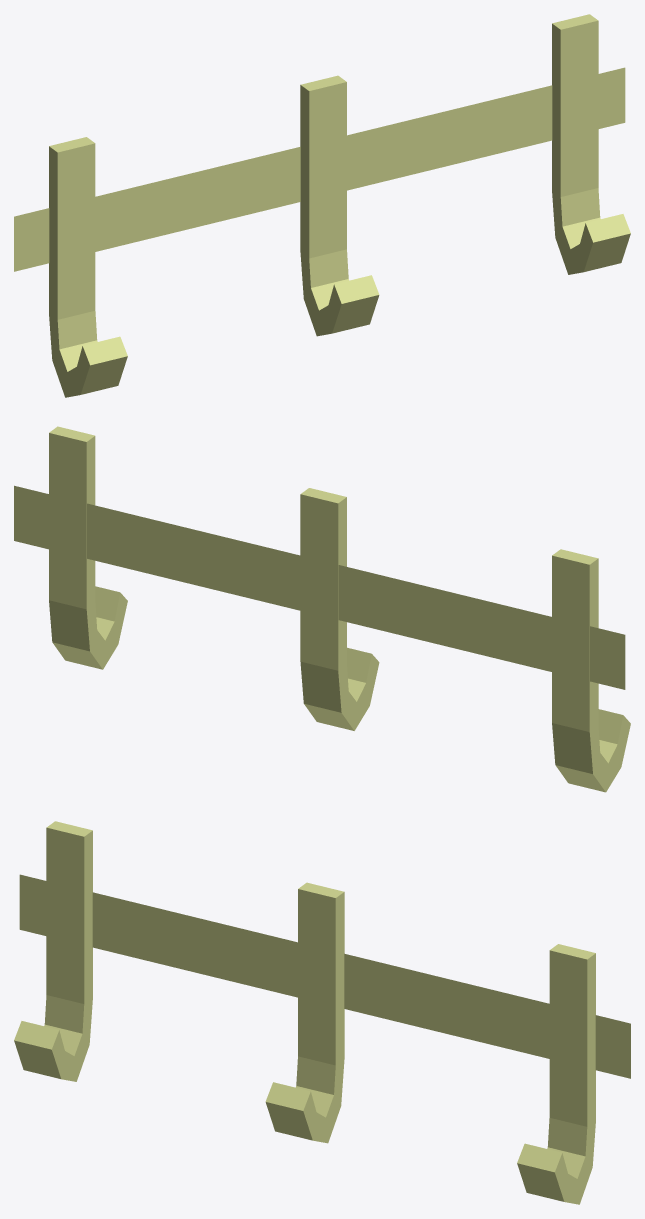
File: Kleiderhaken.FBX
3 views of the same model, one above another, from view 1: azimuth 30°, elevation 25°; view 2: azimuth 150°, elevation 25°; view 3: azimuth 330°, elevation 25° (orthographic).
Parts seen in each view (by area): view 1: Kleiderhaken; view 2: Kleiderhaken; view 3: Kleiderhaken.
Boxes of the visible parts, box(x1,y1,x2,y2) form: Kleiderhaken: box(14, 14, 630, 397); Kleiderhaken: box(14, 426, 630, 792); Kleiderhaken: box(14, 821, 630, 1204).
Bounding box in the file's own units: 24.31 × 9.11 × 2.84.
